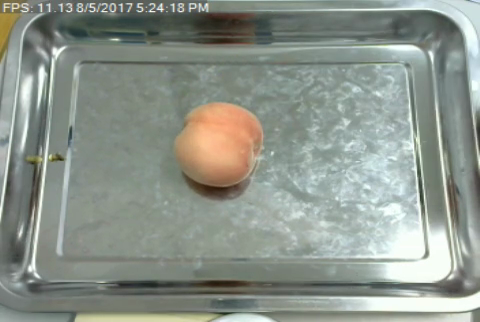Peach: (174, 102, 263, 186)
